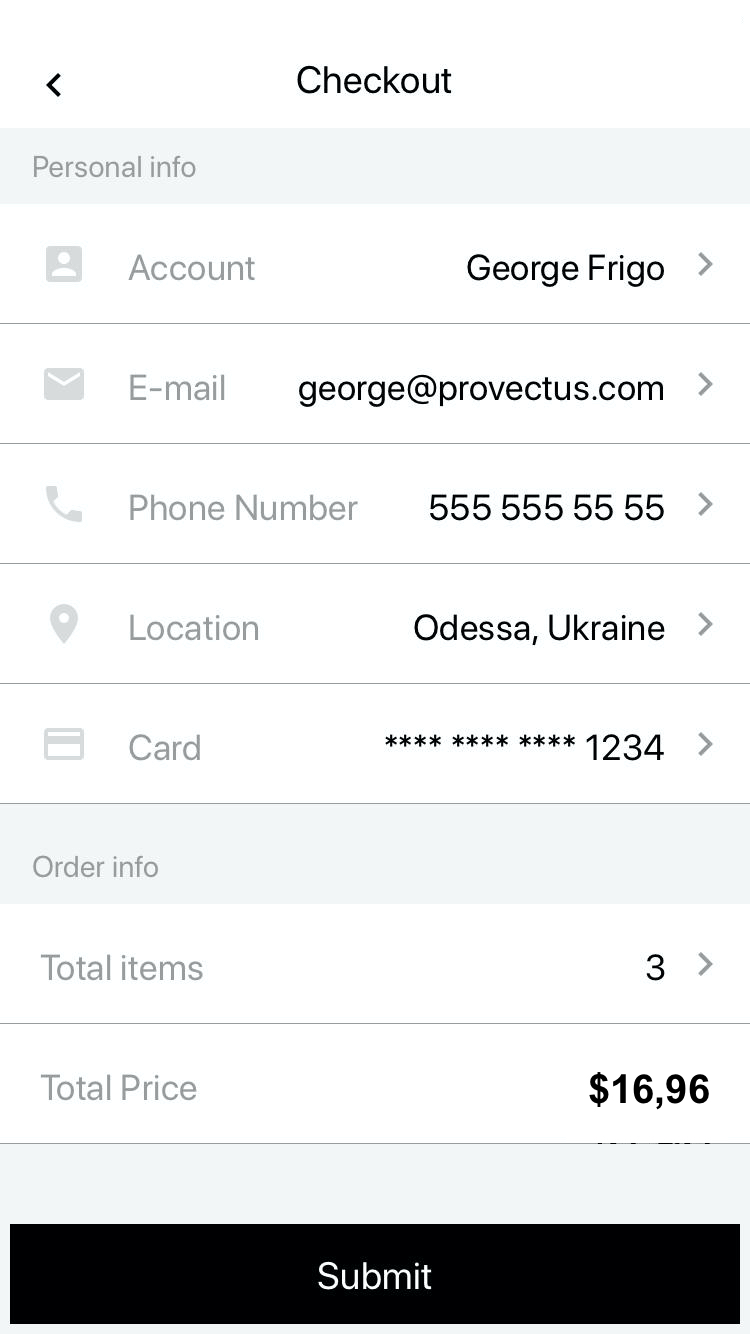Icon: (46, 246, 83, 283), (44, 368, 85, 401), (45, 728, 85, 761), (51, 604, 79, 645), (47, 74, 65, 98), (697, 373, 714, 398), (697, 252, 714, 277), (697, 732, 714, 756), (697, 493, 713, 518), (697, 613, 713, 636), (698, 952, 713, 976)
Image: (46, 486, 83, 523)
Text: (298, 375, 663, 408), (412, 610, 666, 646), (428, 488, 665, 523), (385, 733, 665, 761), (467, 254, 664, 289), (130, 494, 359, 522), (588, 1071, 710, 1111), (297, 65, 453, 95), (42, 953, 207, 981), (41, 1074, 202, 1101), (34, 155, 197, 179), (129, 255, 258, 282), (130, 615, 261, 641), (34, 856, 164, 878), (130, 373, 226, 402), (130, 734, 202, 761), (646, 954, 665, 981)
TextButton: (10, 1224, 740, 1324)
